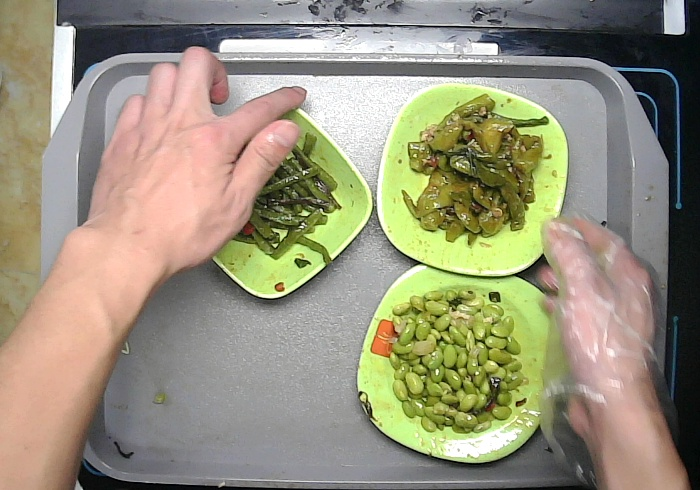SHKJ-Lv_Se_Cai_Die: (378, 83, 569, 278)
SHKJ-Lv_Se_Si_Fang_Cai_Die: (356, 262, 563, 462)
SHKJ-Lv_Se_Xiao_Fang_Die: (195, 104, 374, 300)
